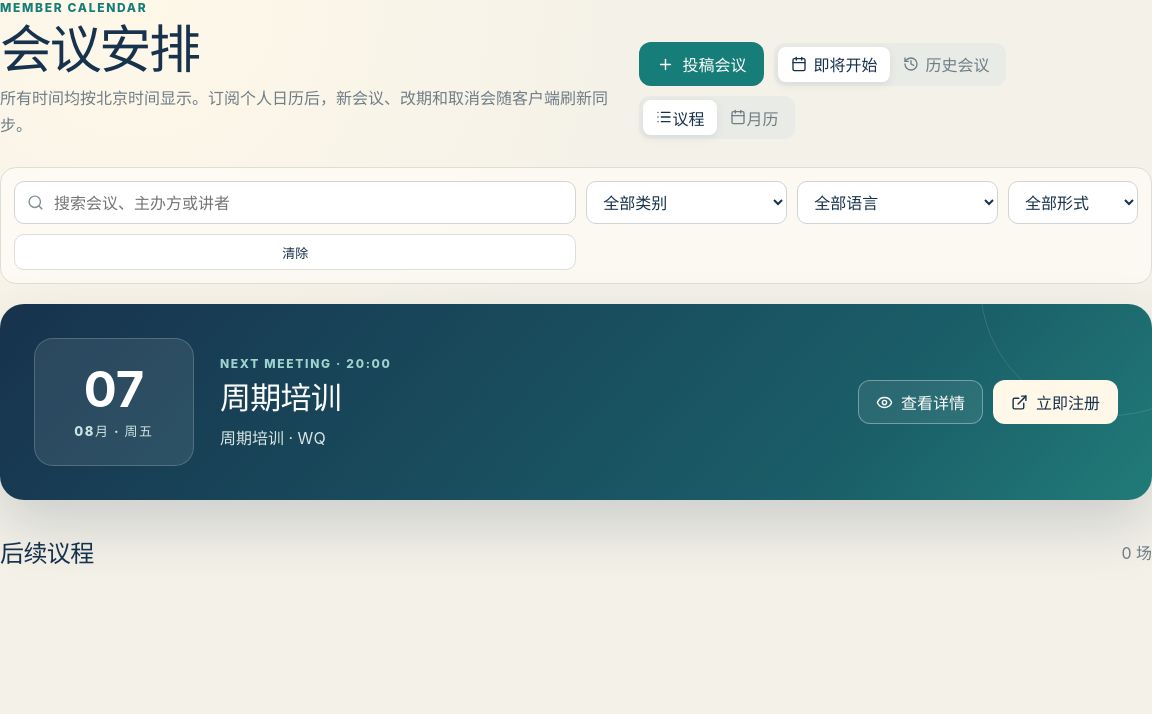
Test: CalendarView › loads every past occurrence lazily and exposes replay actions
The image size is (1152, 714).
Click the button "历史会议" at (946, 64), box [890,47,1002,82]
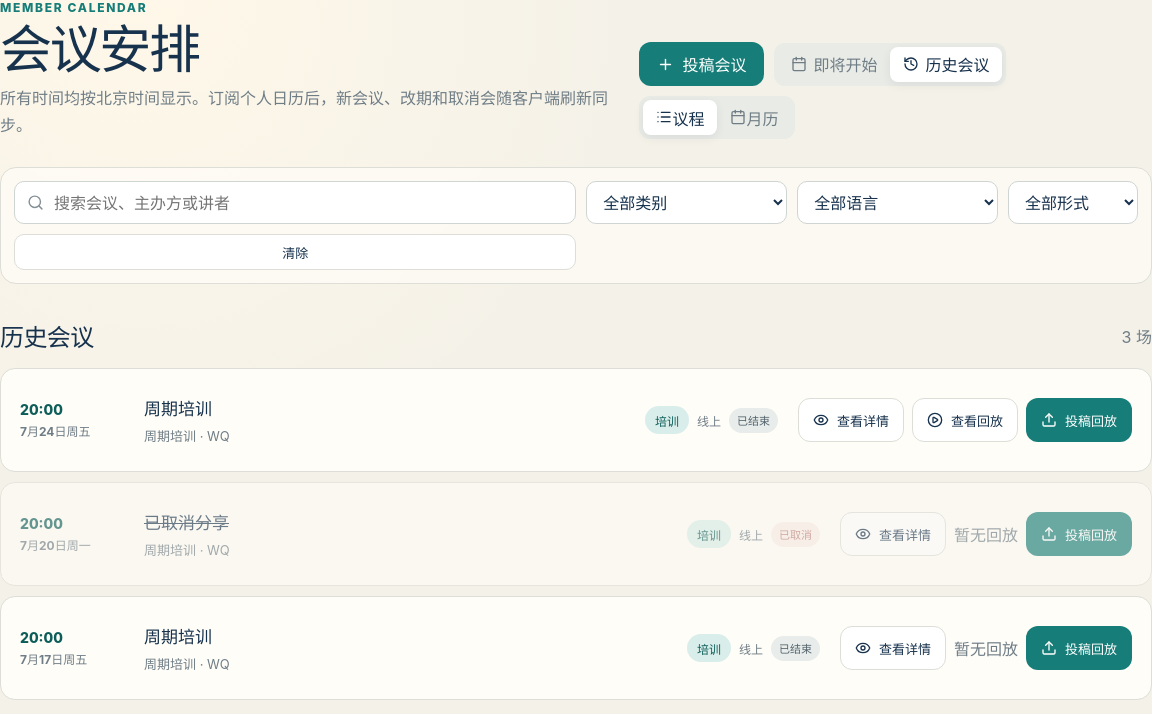
Check: the number of elements with class "agenda-item" is 3, box [0,368,1151,472]; [0,482,1151,586]; [0,596,1151,700]
Check: the text "已结束" is shown, box [729,408,778,433]
Check: the text "已取消" is shown, box [144,514,229,534]
Click the button "月历" at (754, 118), box [717,100,791,136]
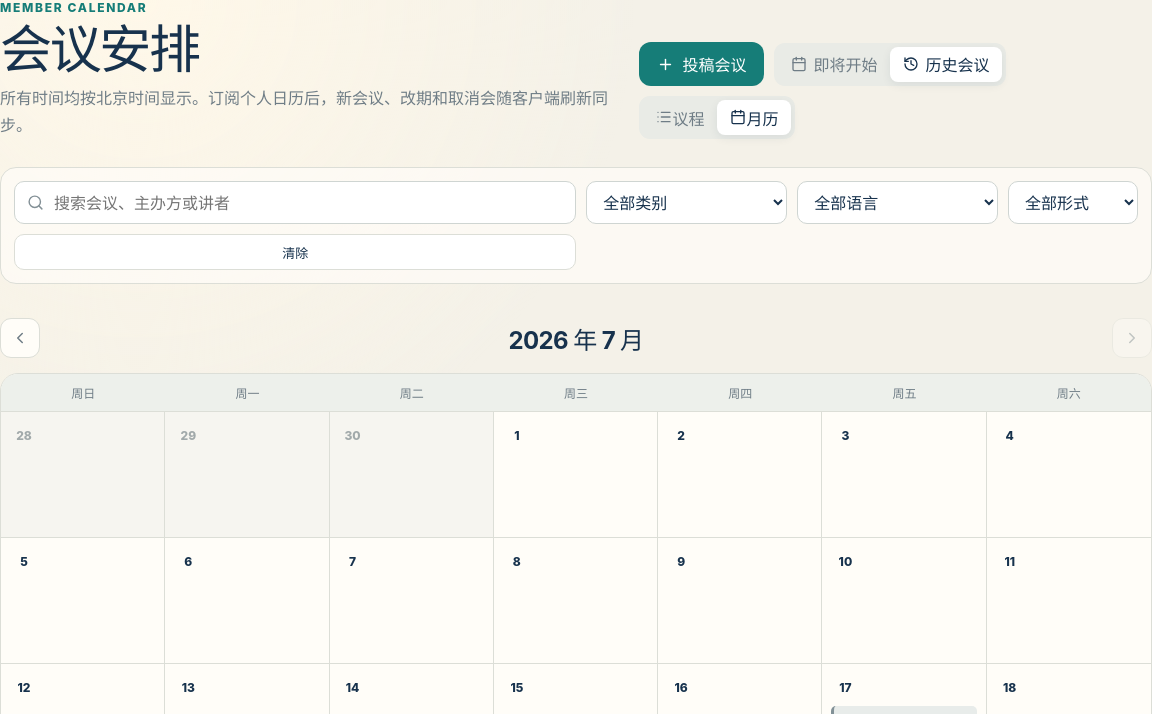
Check: the 1st button with class "icon-button" is enabled, box [0,318,40,358]
Check: the 2nd button with class "icon-button" is disabled, box [1112,318,1151,358]
